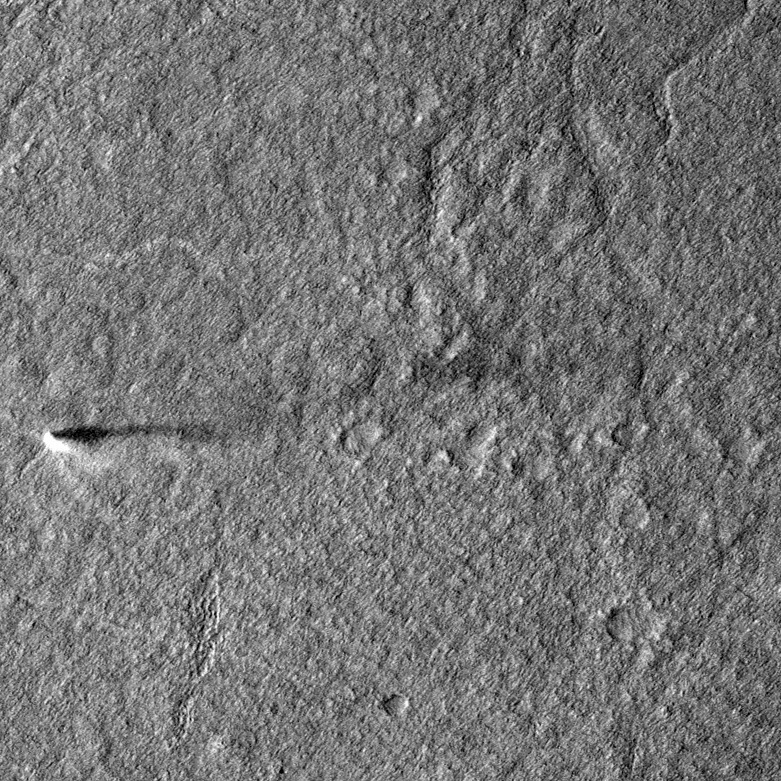dust_devil: (40, 419, 223, 460)
